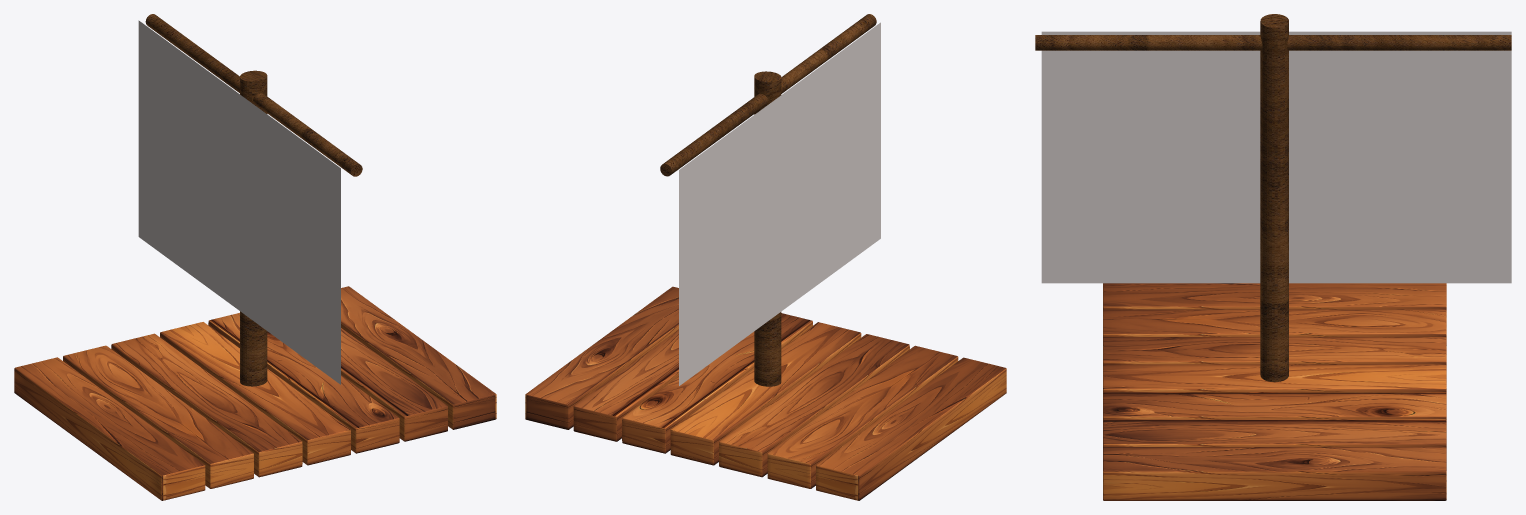
Rendered from raft.glb.
3 views of the same model, side by side, from view 1: azimuth 30°, elevation 25°; view 2: azimuth 150°, elevation 25°; view 3: azimuth 270°, elevation 25° (orthographic). The views are drawn at different scales.
Parts seen in each view (by area): view 1: Raft Body, Raft Flag, Raft Pole.001, Raft Pole; view 2: Raft Body, Raft Flag, Raft Pole.001, Raft Pole; view 3: Raft Flag, Raft Body, Raft Pole, Raft Pole.001.
Part boxes in pixels (box(x1,y1,x2,y2)): Raft Body: box(14, 286, 496, 500); Raft Flag: box(138, 20, 340, 384); Raft Pole.001: box(145, 14, 362, 176); Raft Pole: box(240, 70, 267, 386); Raft Body: box(525, 286, 1006, 500); Raft Flag: box(679, 22, 880, 385); Raft Pole.001: box(660, 14, 876, 176); Raft Pole: box(754, 71, 781, 386); Raft Flag: box(1041, 31, 1511, 283); Raft Body: box(1103, 283, 1446, 500); Raft Pole: box(1260, 14, 1288, 382); Raft Pole.001: box(1035, 35, 1511, 50).
Size of the model in its own units: 5.67 by 5.34 by 6.
4 materials, 3 textured.
